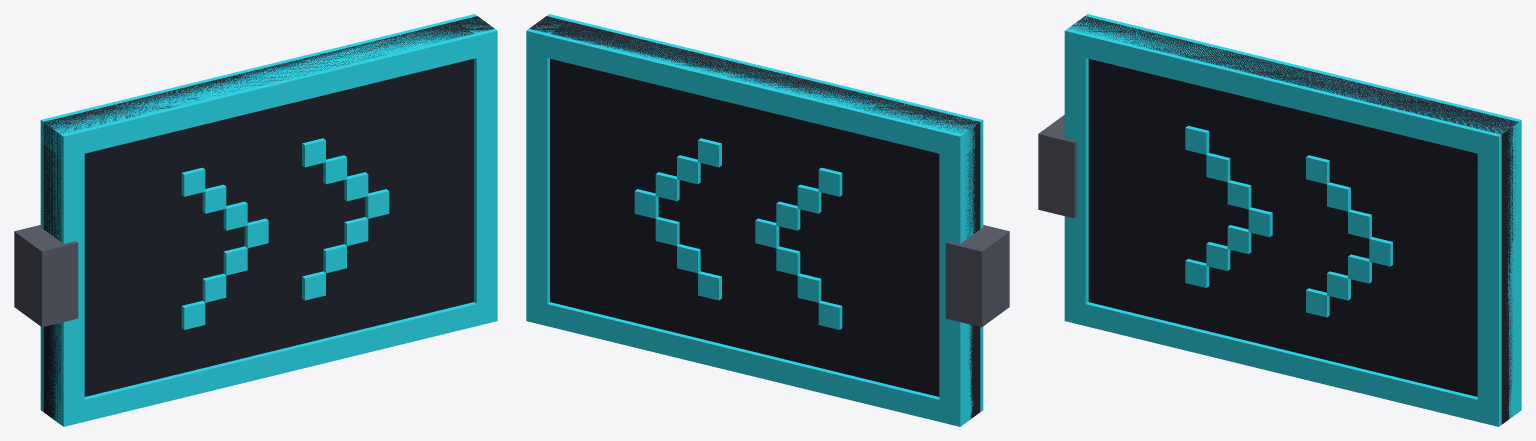
The model's file is checkpoint_flag.obj.
The picture shows the model from 3 angles, left to right: view 1: azimuth 30°, elevation 25°; view 2: azimuth 150°, elevation 25°; view 3: azimuth 330°, elevation 25°; orthographic projection.
Parts seen in each view (by area): view 1: checkpoint_flag; view 2: checkpoint_flag; view 3: checkpoint_flag.
Part boxes in pixels (bbox=[...]): checkpoint_flag: bbox=[14, 14, 497, 426]; checkpoint_flag: bbox=[526, 14, 1009, 426]; checkpoint_flag: bbox=[1038, 14, 1521, 426].
Bounding box in the file's own units: 0.76 × 0.46 × 0.08.
Materials: 1 (1 with a texture image).
